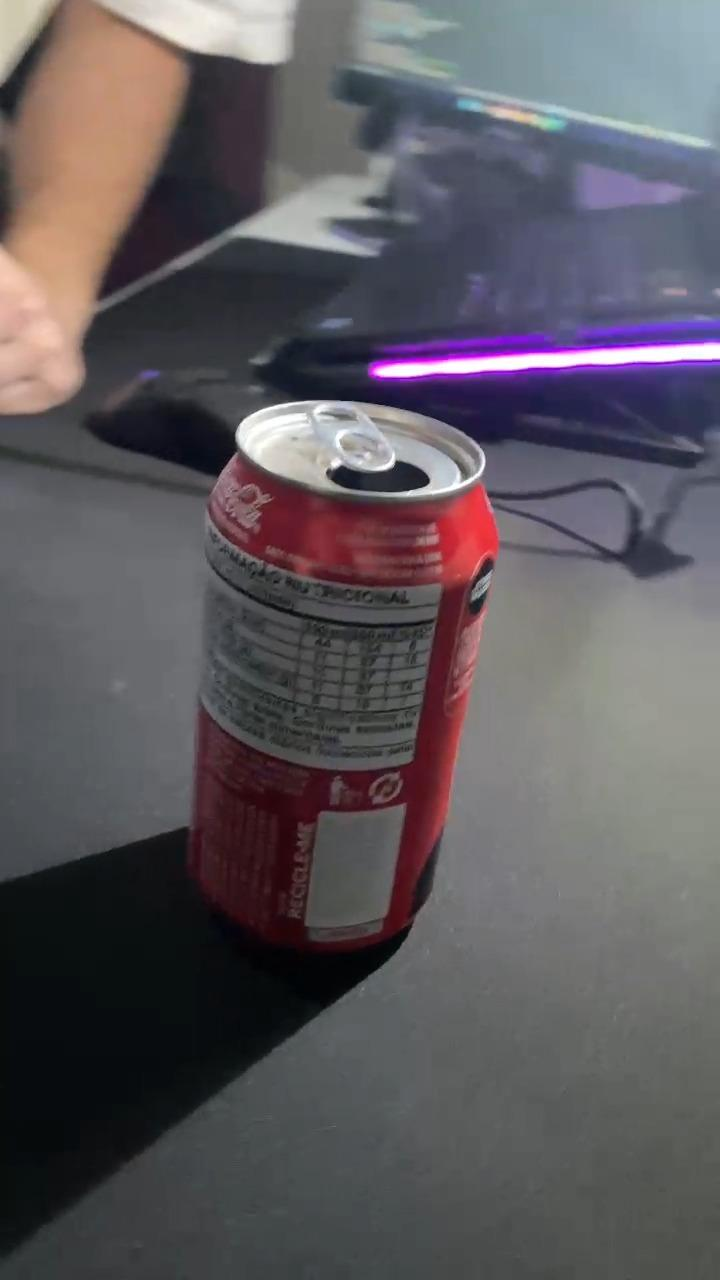coke: (188, 403, 500, 948)
